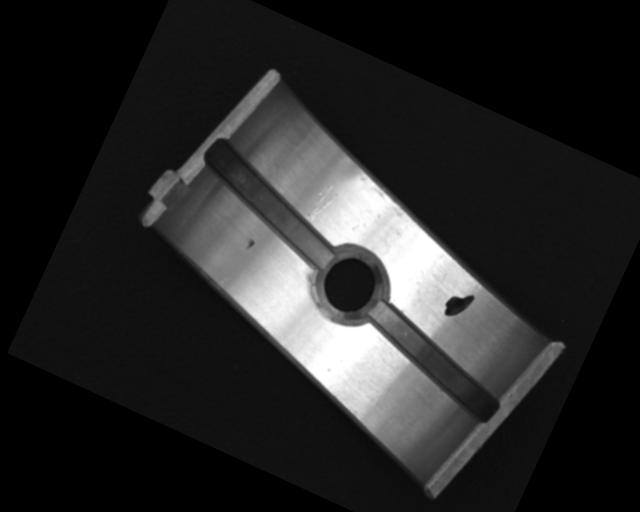blot: (440, 286, 476, 324)
bruise: (243, 237, 256, 252)
gap: (183, 136, 357, 273), (349, 302, 516, 426)
hole: (303, 239, 392, 333)
nick: (306, 179, 342, 226)
